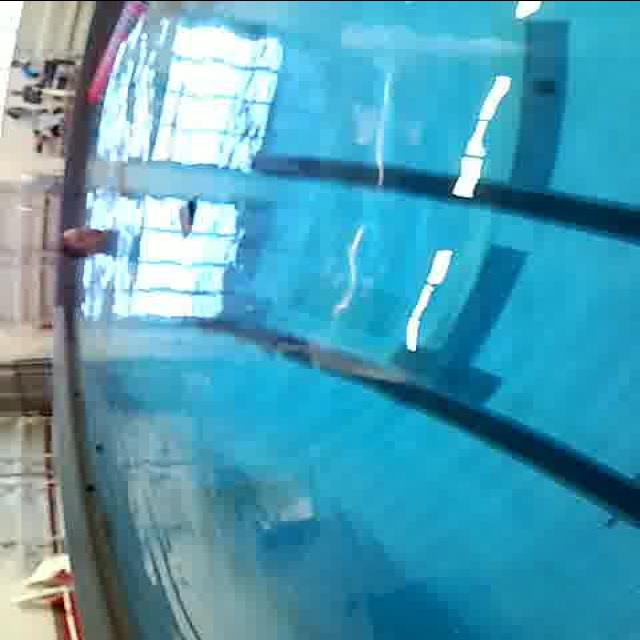CamMount: (168, 192, 210, 240)
